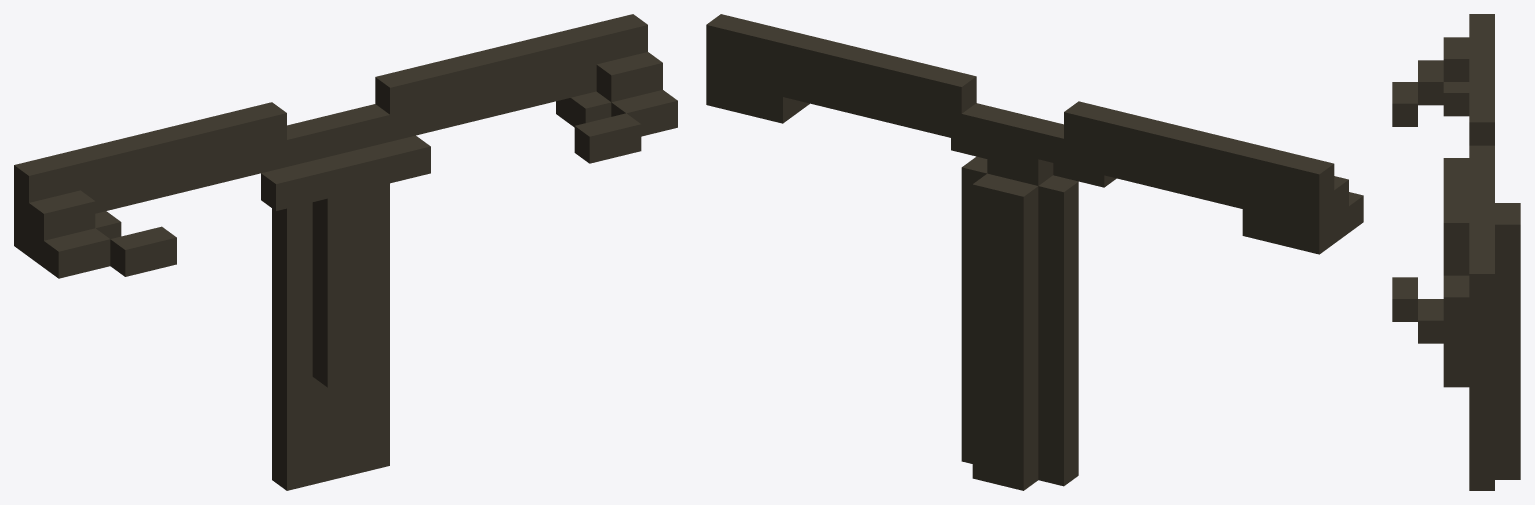
The model's file is Medieval Assets-153-Banner Holder - Top.obj.
The picture shows the model from 3 angles, left to right: view 1: azimuth 30°, elevation 25°; view 2: azimuth 150°, elevation 25°; view 3: azimuth 270°, elevation 25°; orthographic projection. The views are drawn at different scales.
Parts seen in each view (by area): view 1: Banner Holder - Top; view 2: Banner Holder - Top; view 3: Banner Holder - Top.
Boxes of the visible parts, x1,y1,x2,y2 form: Banner Holder - Top: (14,14,677,490); Banner Holder - Top: (706,14,1363,490); Banner Holder - Top: (1392,14,1520,490).
Size of the model in its own units: 2.4 by 1.4 by 0.5.
1 material, 1 textured.
